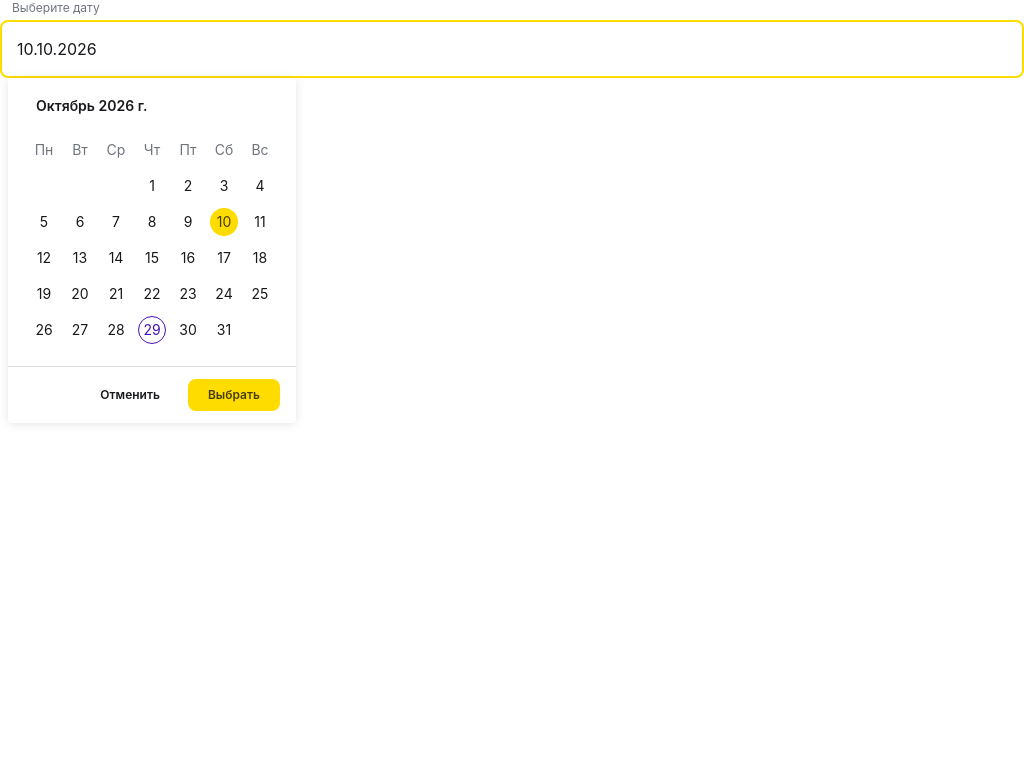
DatePicker › keeps a draft when Calendar Buttons are enabled
This screenshot has width=1024, height=768.
What coordinates should you click on to do the following:
click the button with test id "calendar-day-2026-10-15"
I would click on:
 (152, 258)
Its box is [136, 242, 168, 274].
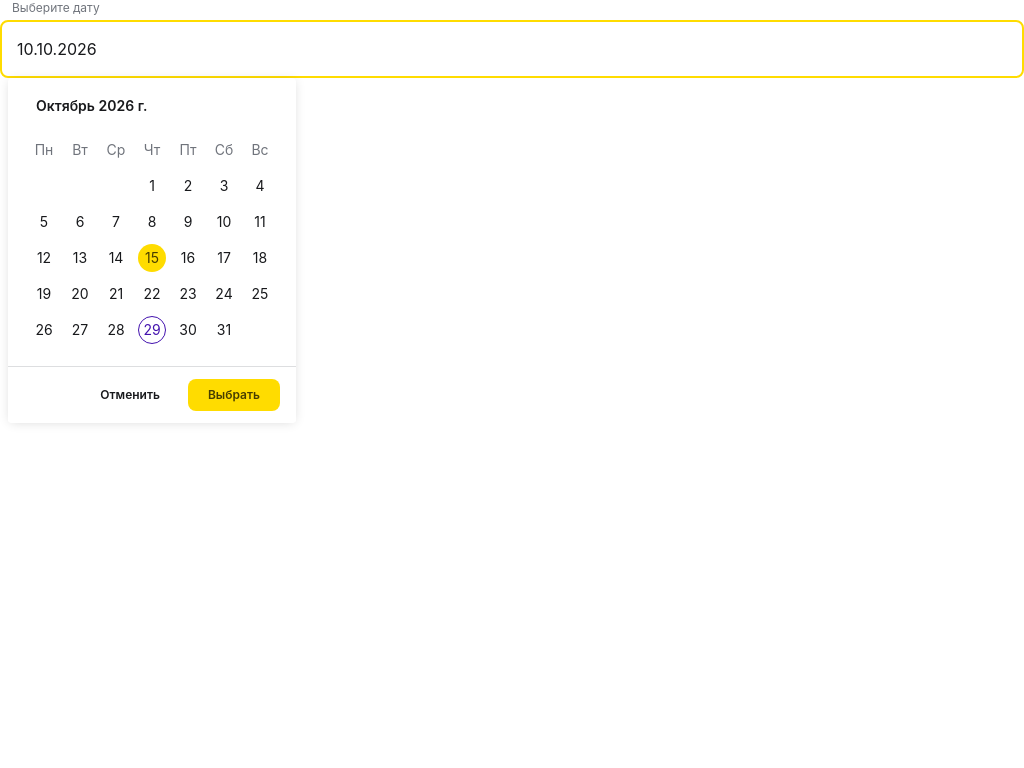
Expected: the field holds "10.10.2026", [17, 37, 967, 61]
What coordinates should you click on to do the following:
click the button "Выбрать"
I would click on:
 (234, 395)
Its box is [188, 379, 280, 411].
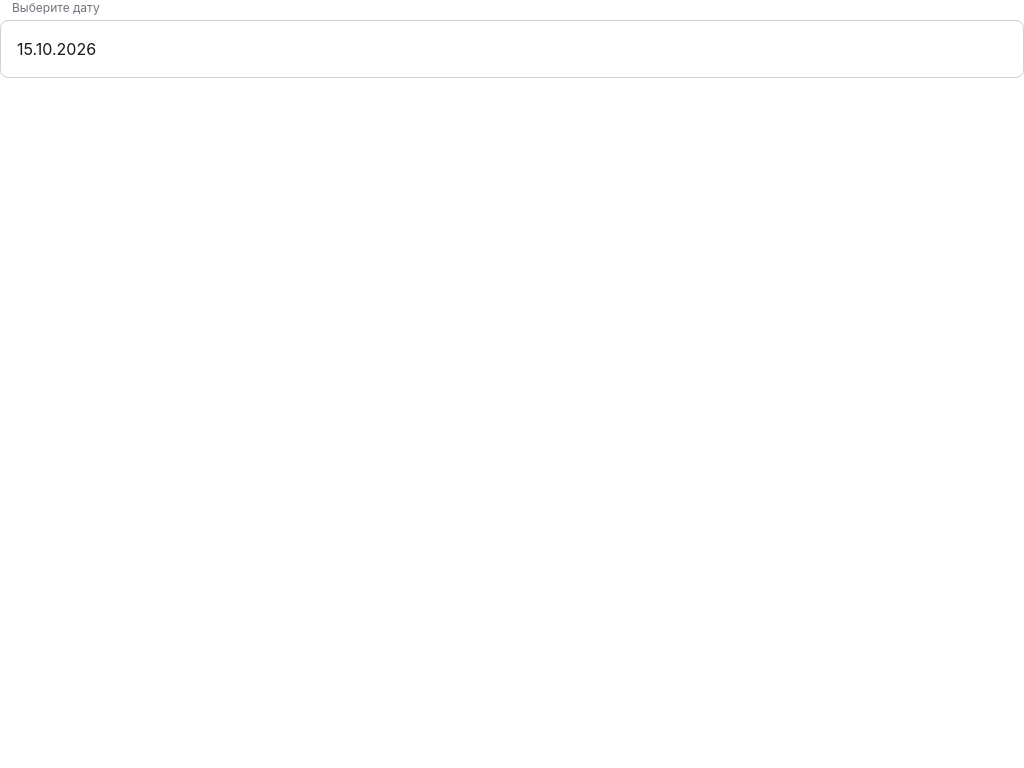
Expected: the field holds "15.10.2026", [17, 37, 967, 61]
Expected: the dialog with test id "date-picker-popup" is gone
